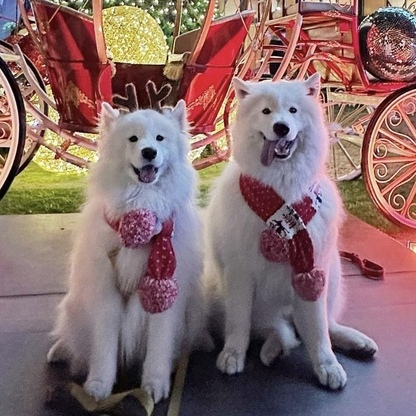samoyed: (27, 89, 220, 406), (210, 59, 384, 400)
